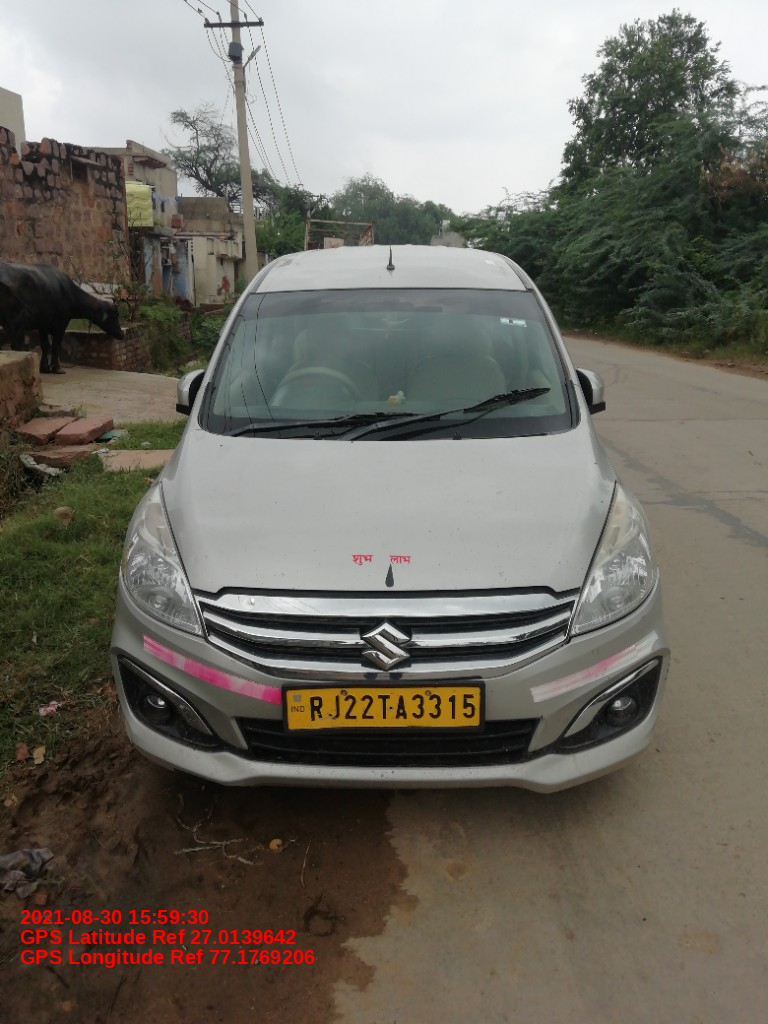Cracked: (239, 597, 264, 609)
Scratched: (370, 766, 396, 781), (535, 712, 553, 725)
